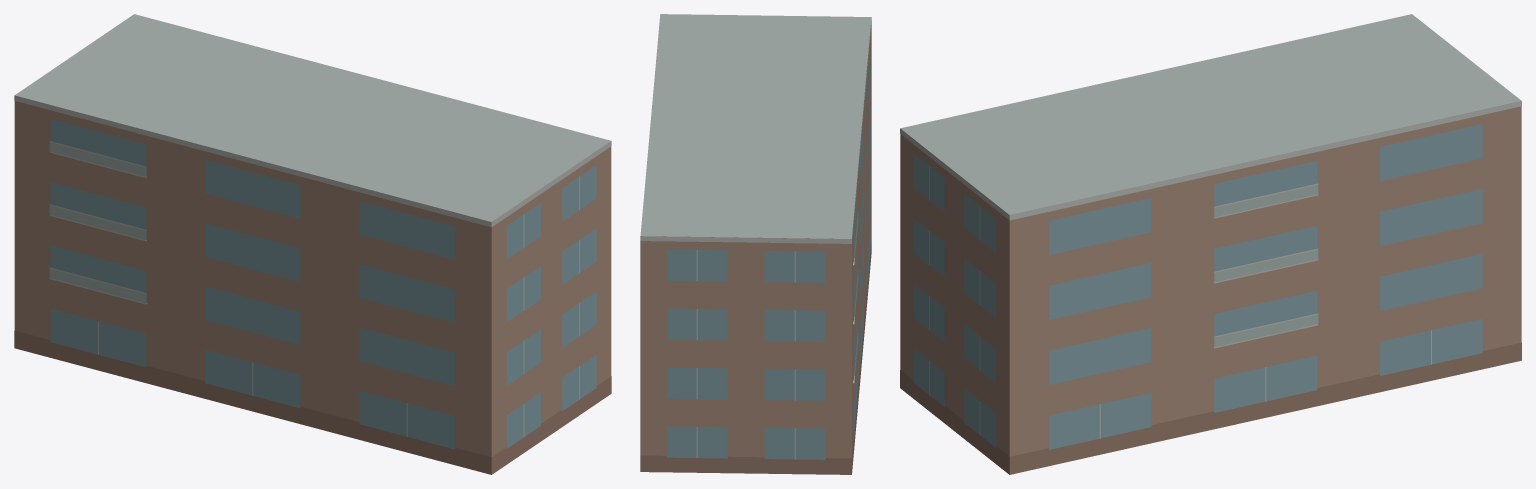
The model's file is survey-upis-32780515.glb.
The picture shows the model from 3 angles, left to right: view 1: azimuth 30°, elevation 25°; view 2: azimuth 150°, elevation 25°; view 3: azimuth 270°, elevation 25°; orthographic projection. The views are drawn at different scales.
Visible parts, largest first — view 1: survey-upis-32780515.tmp; view 2: survey-upis-32780515.tmp; view 3: survey-upis-32780515.tmp.
Boxes of the visible parts, box(x1,y1,x2,y2) form: survey-upis-32780515.tmp: box(14, 14, 611, 474); survey-upis-32780515.tmp: box(640, 14, 871, 474); survey-upis-32780515.tmp: box(900, 14, 1521, 474).
Size of the model in its own units: 19.44 by 11.7 by 25.38.
